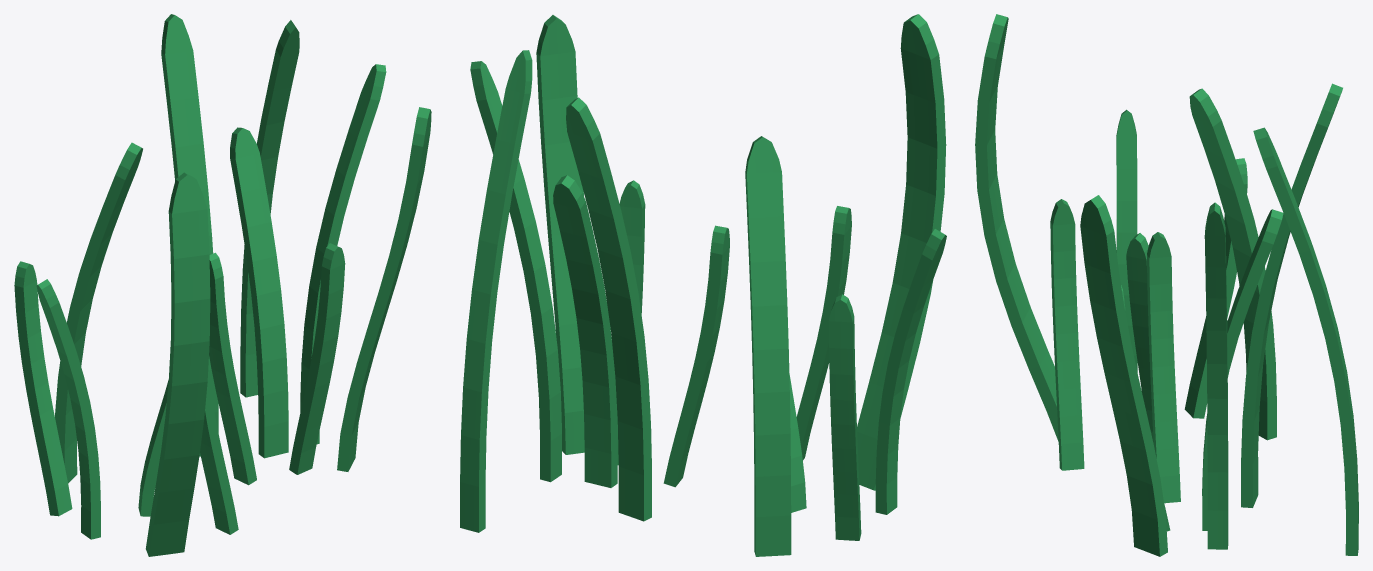
Rendered from littleGrass.fbx.
The picture shows the model from 3 angles, left to right: view 1: azimuth 30°, elevation 25°; view 2: azimuth 150°, elevation 25°; view 3: azimuth 270°, elevation 25°; orthographic projection. The views are drawn at different scales.
Parts seen in each view (by area): view 1: littleGrass; view 2: littleGrass; view 3: littleGrass.
Boxes of the visible parts, <box> form: littleGrass: <box>14,14,431,556</box>; littleGrass: <box>460,14,946,556</box>; littleGrass: <box>975,14,1358,556</box>.
Bounding box in the file's own units: 26.63 × 26.99 × 21.79.
